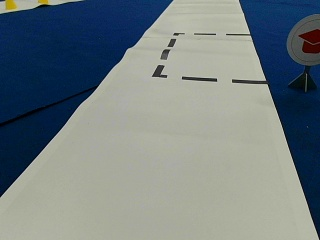school: (287, 14, 318, 64)
